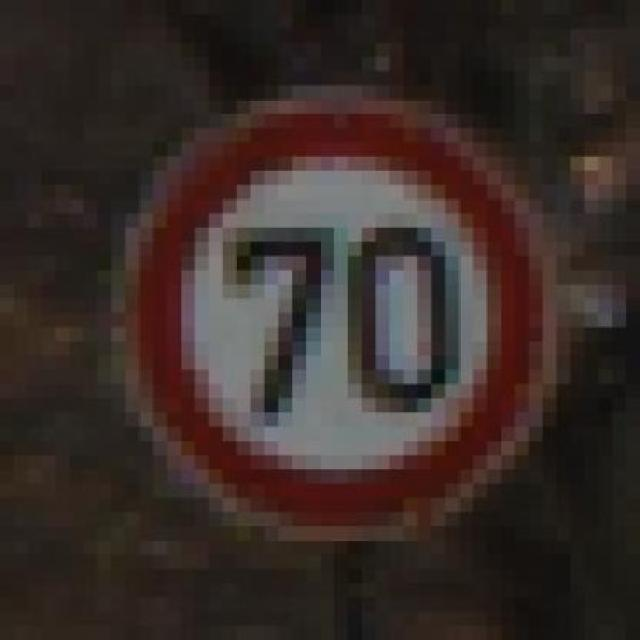forb_speed_over_70: (129, 100, 552, 528)
